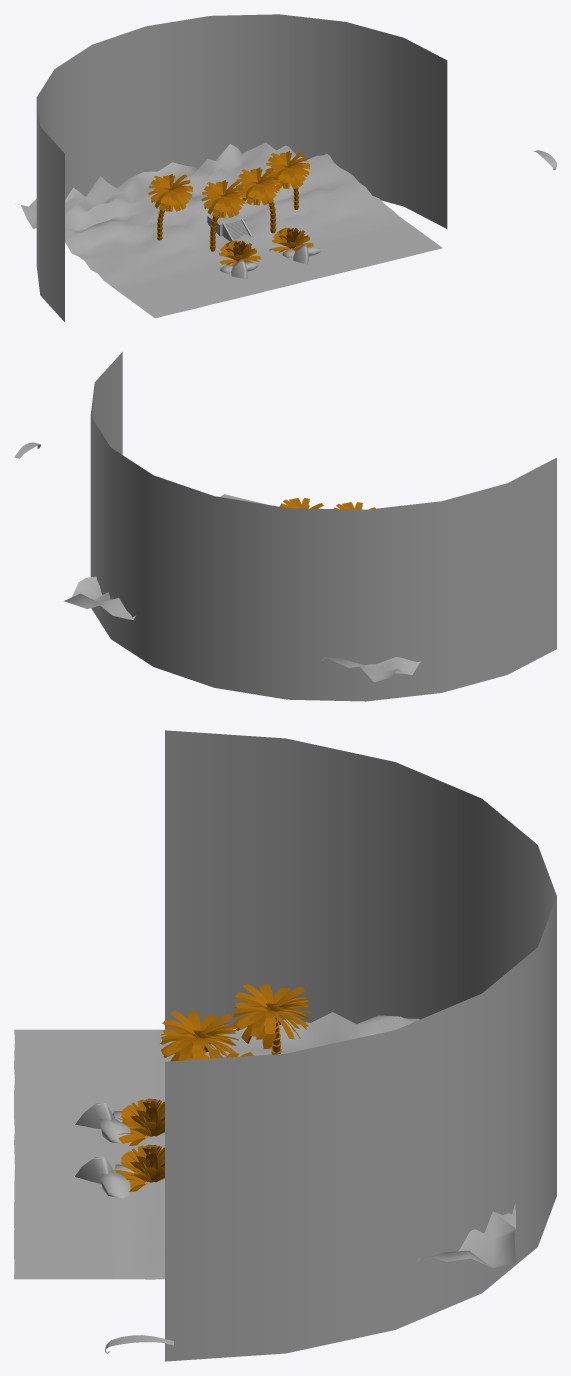
File: cheri.fbx
3 renders of one model, top to bottom at view 1: azimuth 30°, elevation 25°; view 2: azimuth 150°, elevation 25°; view 3: azimuth 270°, elevation 25°, orthographic. The views are drawn at different scales.
Parts seen in each view (by area): view 1: pCylinder1, pPlane1; view 2: pCylinder1, pPlane1; view 3: pCylinder1, pPlane1.
Part boxes in pixels (x1=…): pCylinder1: x1=36, y1=14, x2=447, y2=321; pPlane1: x1=17, y1=142, x2=442, y2=318; pCylinder1: x1=90, y1=352, x2=556, y2=701; pPlane1: x1=64, y1=494, x2=421, y2=682; pCylinder1: x1=165, y1=730, x2=556, y2=1361; pPlane1: x1=14, y1=1012, x2=515, y2=1279.
Bounding box in the file's own units: 4176 × 1411 × 2316.
